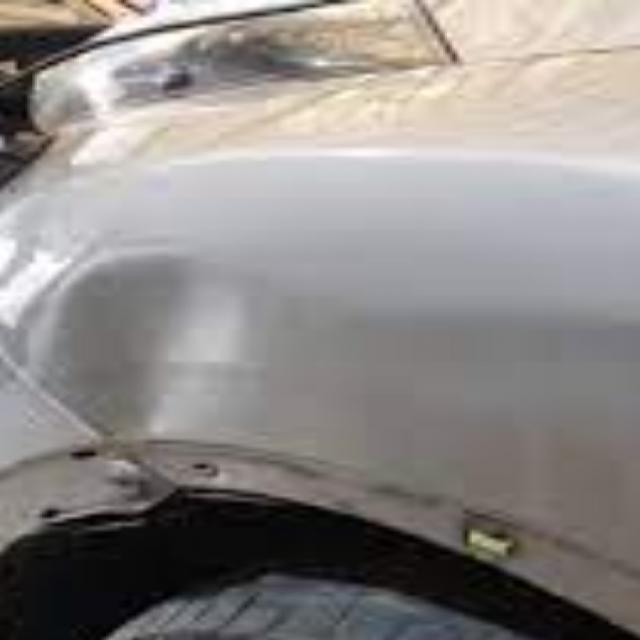dents: (35, 233, 268, 456)
